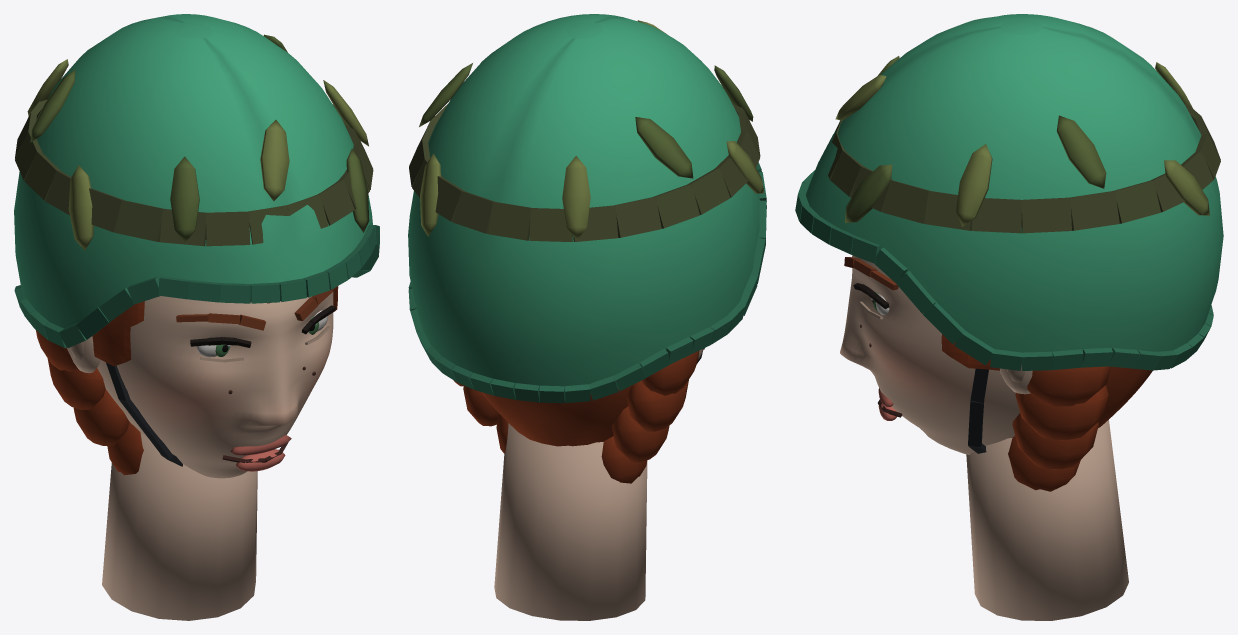
Rendered from cabeza-sniper-f.glb.
The picture shows the model from 3 angles, left to right: view 1: azimuth 30°, elevation 25°; view 2: azimuth 150°, elevation 25°; view 3: azimuth 270°, elevation 25°; orthographic projection.
Visible parts, largest first — view 1: h_Head; view 2: h_Head; view 3: h_Head.
Boxes of the visible parts, x1,y1,x2,y2 form: h_Head: [14, 14, 379, 620]; h_Head: [408, 14, 766, 620]; h_Head: [795, 14, 1223, 620].
Bounding box in the file's own units: 0.1923 × 0.3481 × 0.2379.
